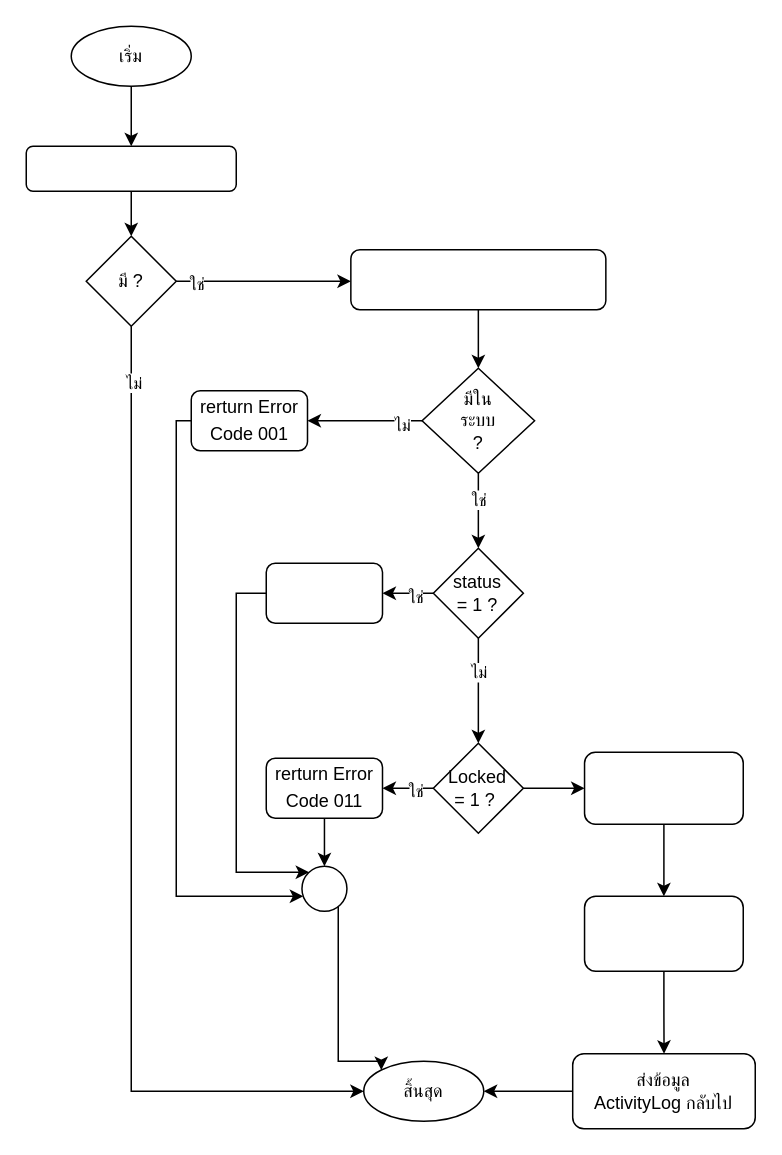
The diagram is 782 pixels wide and 1155 high, and some of its shapes have lost their labels. Each missing label, with the centre of its shape:
rerturn Error Code 004: (x=323, y=592)
ดึงข้อมูล ActivityLog ทั้งหมด: (x=663, y=787)
ตรวจสอบ Account สถานะการใช้งาน: (x=477, y=279)
ตรวจสอบสิทธิ์การใช้งาน: (x=130, y=168)
ทำการกรองข้อมูล Module ที่ซ้ำกัน: (x=663, y=933)
